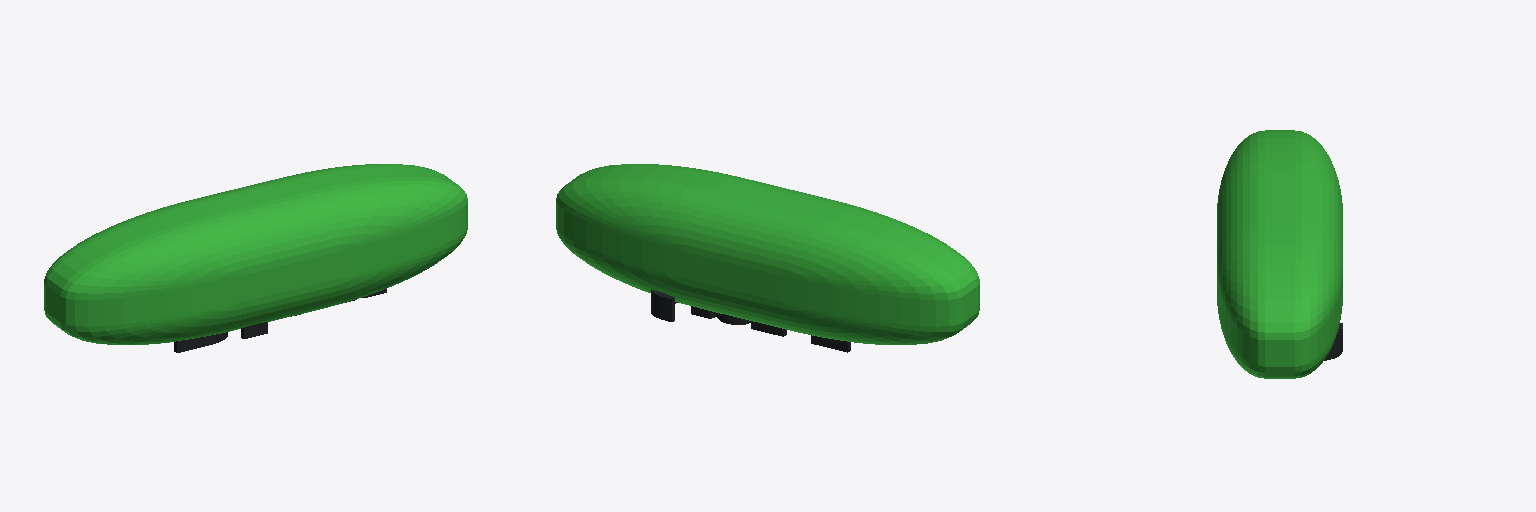
File: tinker.obj
The picture shows the model from 3 angles: view 1: azimuth 30°, elevation 25°; view 2: azimuth 150°, elevation 25°; view 3: azimuth 270°, elevation 25°; orthographic projection.
Visible parts, largest first — view 1: obj_0; view 2: obj_0; view 3: obj_0.
Part boxes in pixels (bbox=[...]): obj_0: bbox=[44, 164, 467, 352]; obj_0: bbox=[556, 164, 979, 352]; obj_0: bbox=[1217, 130, 1342, 378].
Bounding box in the file's own units: 74 × 20.5 × 20.